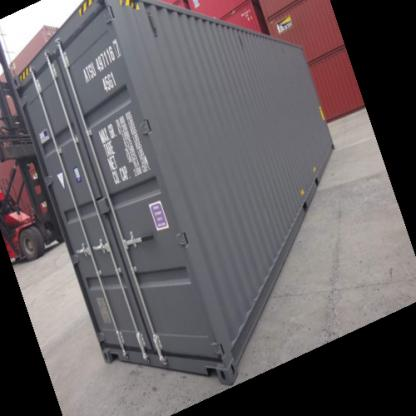Damage: (231, 28, 248, 50), (274, 40, 292, 54)
